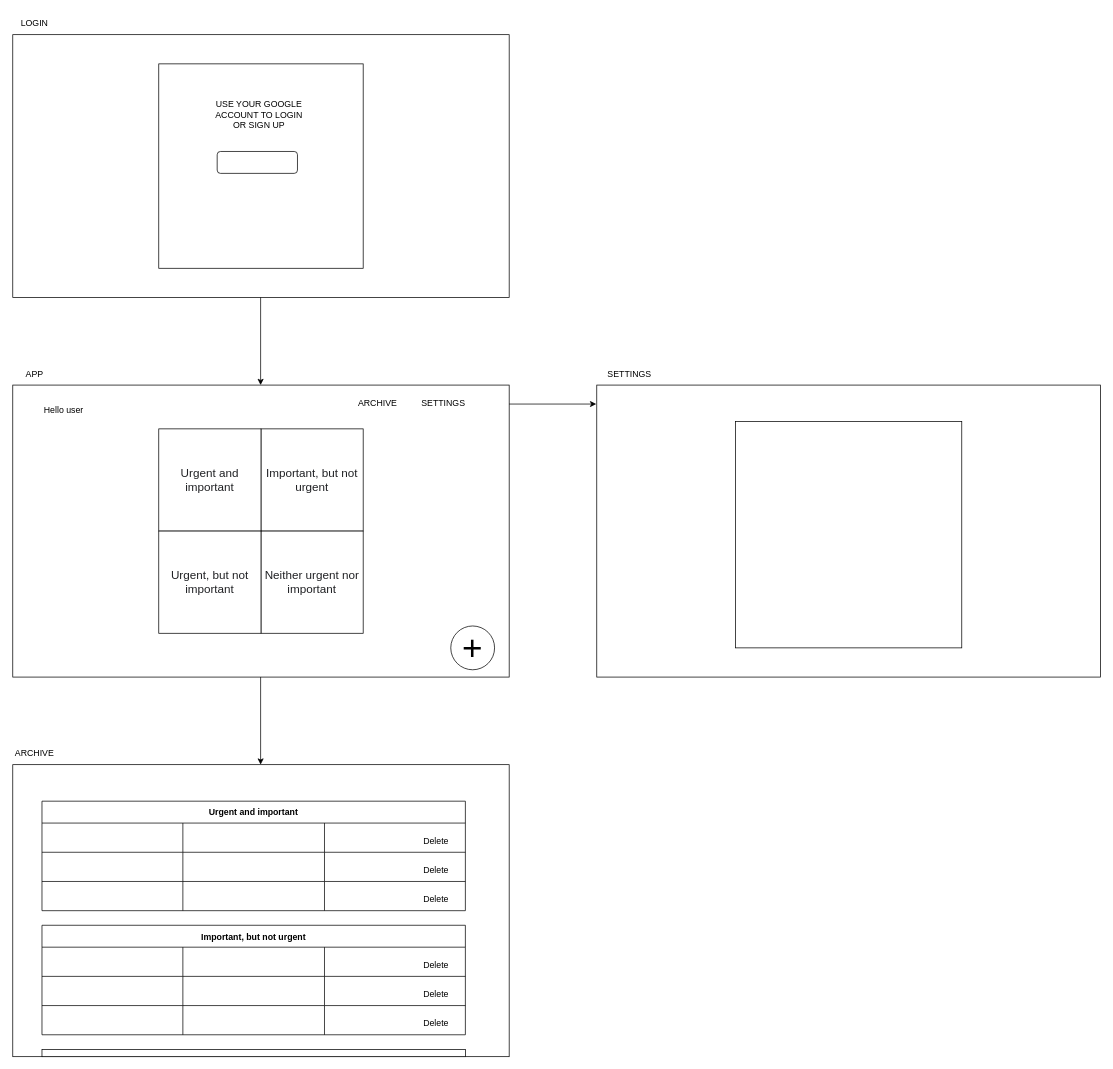
This 1113x1069 diagram has some shape labels left out. The centre of each missing label's shape, as x and y in pixels:
"FORM FOR SETTINGS" goes at point (848, 534).
"G LOGIN" goes at point (256, 162).
